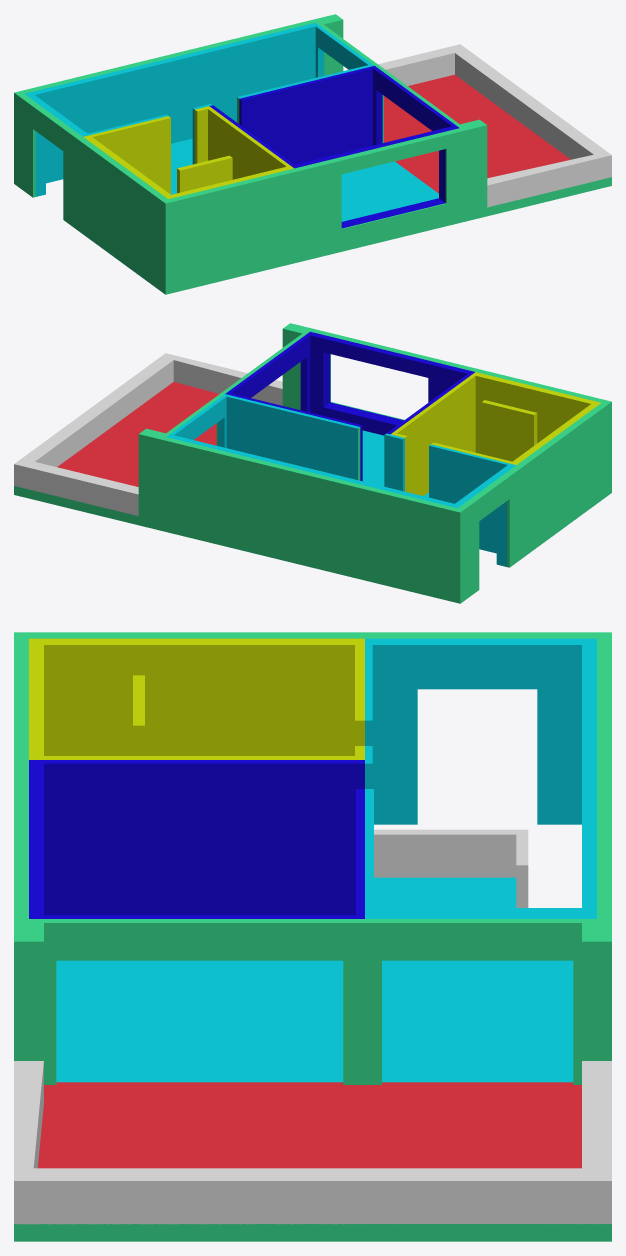
File: Floor1.fbx
3 renders of one model, top to bottom at view 1: azimuth 30°, elevation 25°; view 2: azimuth 150°, elevation 25°; view 3: azimuth 270°, elevation 25°, orthographic. The views are drawn at different scales.
Parts seen in each view (by area): view 1: F1_SideWall_Right, F1_SideWall_Left, F1_BasePlate, F1_Bedroom_Outside_Wall, F1_FrontWall, F1_Terrace_Railing, F1_BathRoom_Center_Wall, F1_BathRoom_StairCase_Wall, F1_BathRoom_Dividing_Wall; view 2: F1_SideWall_Left, F1_BasePlate, F1_SideWall_Right, F1_FrontWall, F1_Bedroom_Outside_Wall, F1_Terrace_Railing, F1_BathRoom_Center_Wall, F1_BathRoom_StairCase_Wall, F1_BathRoom_Dividing_Wall; view 3: F1_BasePlate, F1_FrontWall, F1_BathRoom_Center_Wall, F1_Terrace_Railing, F1_Bedroom_Outside_Wall, F1_SideWall_Right, F1_SideWall_Left, F1_Railing, F1_BathRoom_StairCase_Wall, F1_BathRoom_Dividing_Wall.
Part boxes in pixels (x1,y1,x2,y2): F1_SideWall_Right: [158, 119, 487, 285]; F1_SideWall_Left: [14, 14, 343, 179]; F1_BasePlate: [14, 74, 611, 294]; F1_Bedroom_Outside_Wall: [237, 24, 459, 164]; F1_FrontWall: [21, 95, 170, 279]; F1_Terrace_Railing: [378, 44, 611, 207]; F1_BathRoom_Center_Wall: [192, 104, 294, 179]; F1_BathRoom_StairCase_Wall: [88, 114, 170, 194]; F1_BathRoom_Dividing_Wall: [177, 155, 232, 193]; F1_SideWall_Left: [138, 428, 467, 594]; F1_BasePlate: [14, 382, 611, 603]; F1_SideWall_Right: [282, 323, 611, 488]; F1_FrontWall: [455, 404, 604, 588]; F1_Bedroom_Outside_Wall: [166, 333, 362, 481]; F1_Terrace_Railing: [14, 353, 282, 515]; F1_BathRoom_Center_Wall: [384, 373, 475, 495]; F1_BathRoom_StairCase_Wall: [429, 442, 511, 544]; F1_BathRoom_Dividing_Wall: [481, 400, 537, 461]; F1_BasePlate: [14, 807, 611, 1241]; F1_FrontWall: [44, 632, 581, 806]; F1_BathRoom_Center_Wall: [42, 746, 372, 915]; F1_Terrace_Railing: [14, 1061, 611, 1224]; F1_Bedroom_Outside_Wall: [44, 789, 583, 1084]; F1_SideWall_Right: [14, 632, 43, 1060]; F1_SideWall_Left: [582, 632, 611, 1060]; F1_Railing: [374, 829, 528, 907]; F1_BathRoom_StairCase_Wall: [355, 645, 372, 745]; F1_BathRoom_Dividing_Wall: [133, 675, 144, 755].
Bounding box in the file's own units: 1700 × 332 × 1000.
